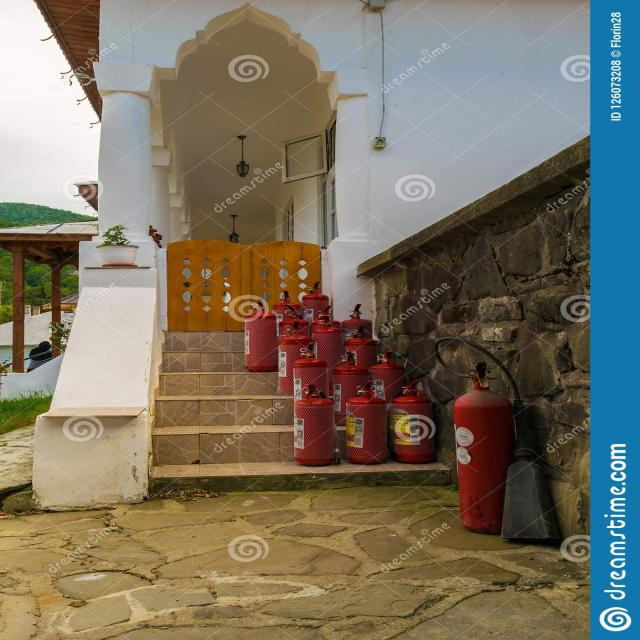fire_extinguisher: (426, 331, 567, 552), (382, 374, 441, 468), (339, 377, 391, 465), (288, 380, 340, 468), (289, 344, 335, 424), (240, 293, 284, 376), (330, 349, 376, 428), (364, 349, 412, 423), (336, 302, 382, 378), (274, 318, 317, 398), (304, 304, 346, 382), (296, 280, 334, 363), (268, 288, 306, 368)
